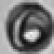correct: (4, 0, 54, 53)
